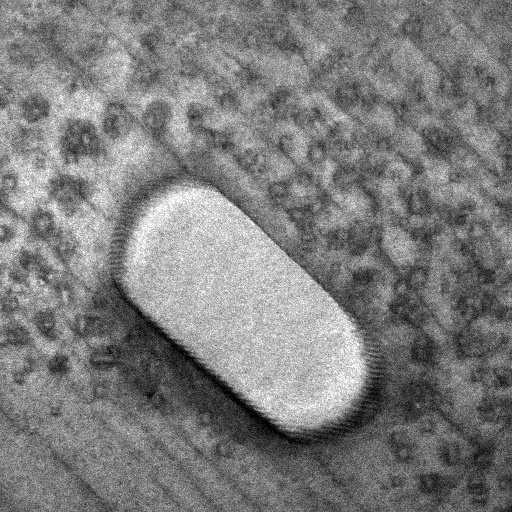y2o3: (217, 0, 312, 58), (266, 168, 331, 243), (388, 185, 451, 258), (441, 258, 512, 322), (121, 24, 179, 95), (435, 52, 498, 112), (54, 32, 111, 98), (386, 262, 437, 331), (381, 71, 433, 136), (326, 67, 382, 125), (7, 17, 67, 70), (395, 375, 452, 426), (304, 37, 355, 93), (356, 28, 404, 84), (317, 219, 384, 258), (416, 119, 472, 164), (55, 118, 107, 166), (45, 172, 99, 218), (8, 123, 50, 170), (44, 224, 83, 271), (292, 105, 340, 139), (0, 313, 36, 358), (139, 98, 174, 144), (474, 393, 512, 435), (101, 98, 137, 142), (352, 122, 396, 158), (349, 148, 394, 183), (266, 87, 305, 125), (409, 328, 443, 369), (176, 45, 212, 82), (184, 101, 215, 143), (17, 89, 52, 126), (231, 146, 268, 181), (465, 439, 498, 478), (467, 363, 511, 392), (25, 205, 59, 242), (387, 426, 418, 463), (88, 343, 126, 373), (395, 7, 426, 43), (233, 63, 268, 94), (36, 259, 69, 290), (205, 126, 239, 156), (3, 266, 33, 300), (30, 307, 59, 342), (447, 199, 479, 230), (54, 276, 80, 313), (211, 88, 242, 117), (17, 245, 42, 279), (68, 312, 97, 338), (464, 479, 490, 508), (44, 352, 73, 377), (352, 264, 384, 286), (435, 440, 461, 467), (449, 238, 478, 262), (416, 472, 443, 497), (143, 388, 169, 413), (306, 140, 330, 165), (0, 288, 22, 315), (276, 133, 297, 156), (92, 381, 112, 403), (215, 438, 235, 460), (494, 473, 512, 496), (196, 409, 215, 429), (2, 171, 19, 193), (22, 355, 39, 377), (0, 223, 17, 244), (11, 370, 27, 388), (390, 474, 408, 489), (48, 404, 63, 420), (447, 171, 461, 185)
